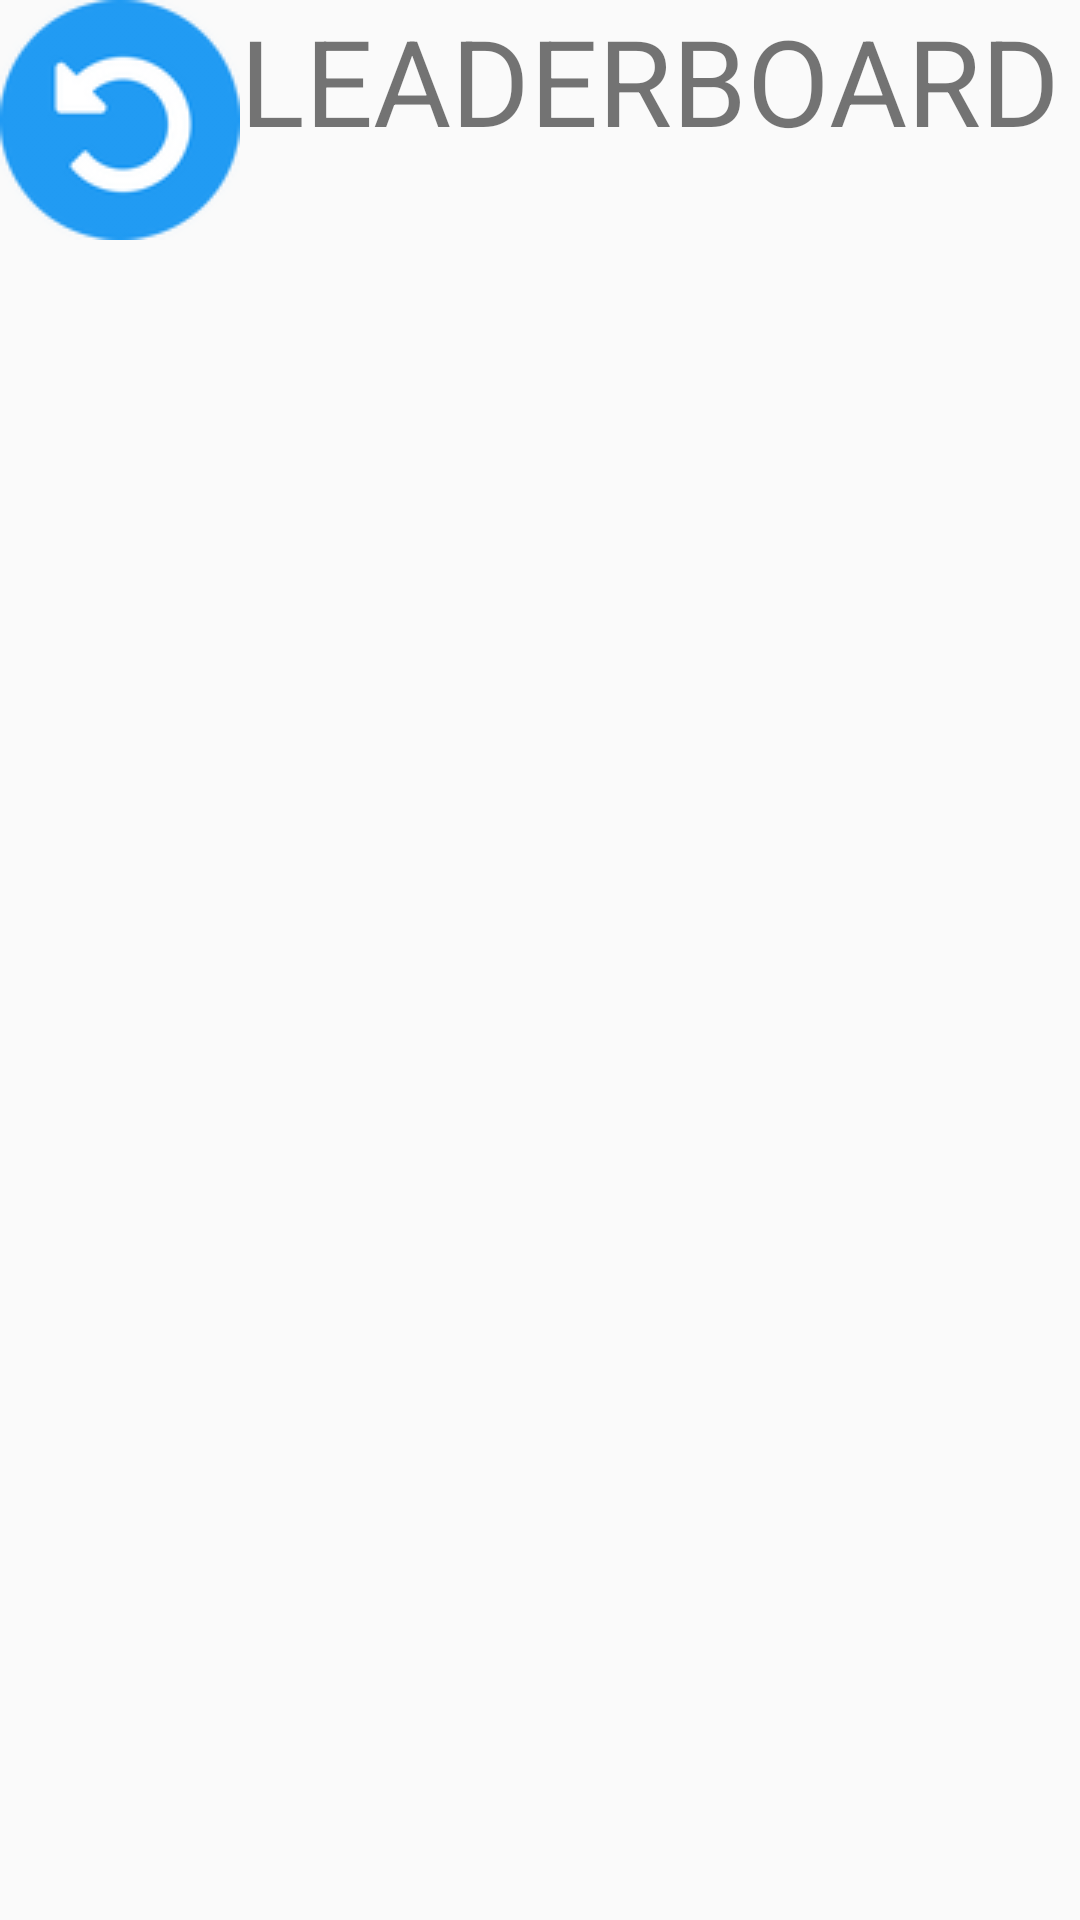

Icons on this 1080 x 1920 Android screen, each with the point to tap as point (x, y):
restart: point (120, 120)
